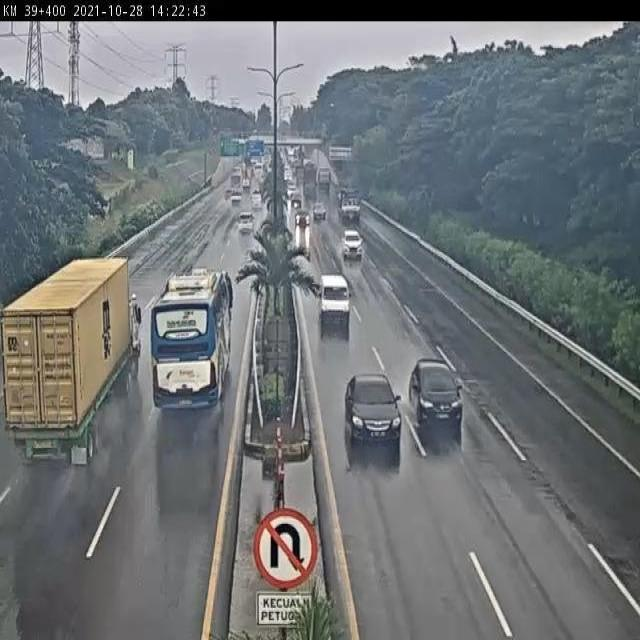Bus: (145, 262, 231, 412)
Car: (344, 374, 402, 468), (403, 360, 470, 434), (319, 274, 351, 338), (341, 230, 363, 260), (312, 203, 327, 221)
Truck: (0, 253, 128, 460)
